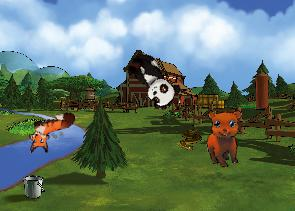bear: (200, 105, 252, 170)
fox: (22, 109, 81, 156)
panda: (120, 47, 184, 112)
